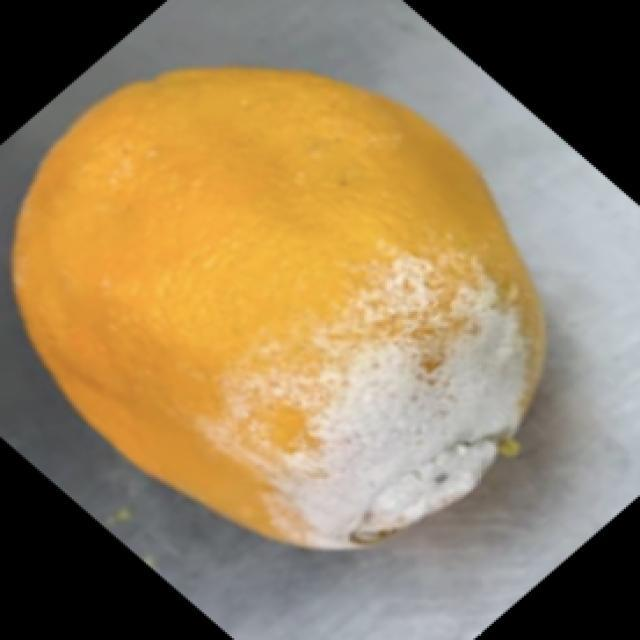sedikit-busuk: (13, 69, 543, 548), (223, 255, 526, 547)
